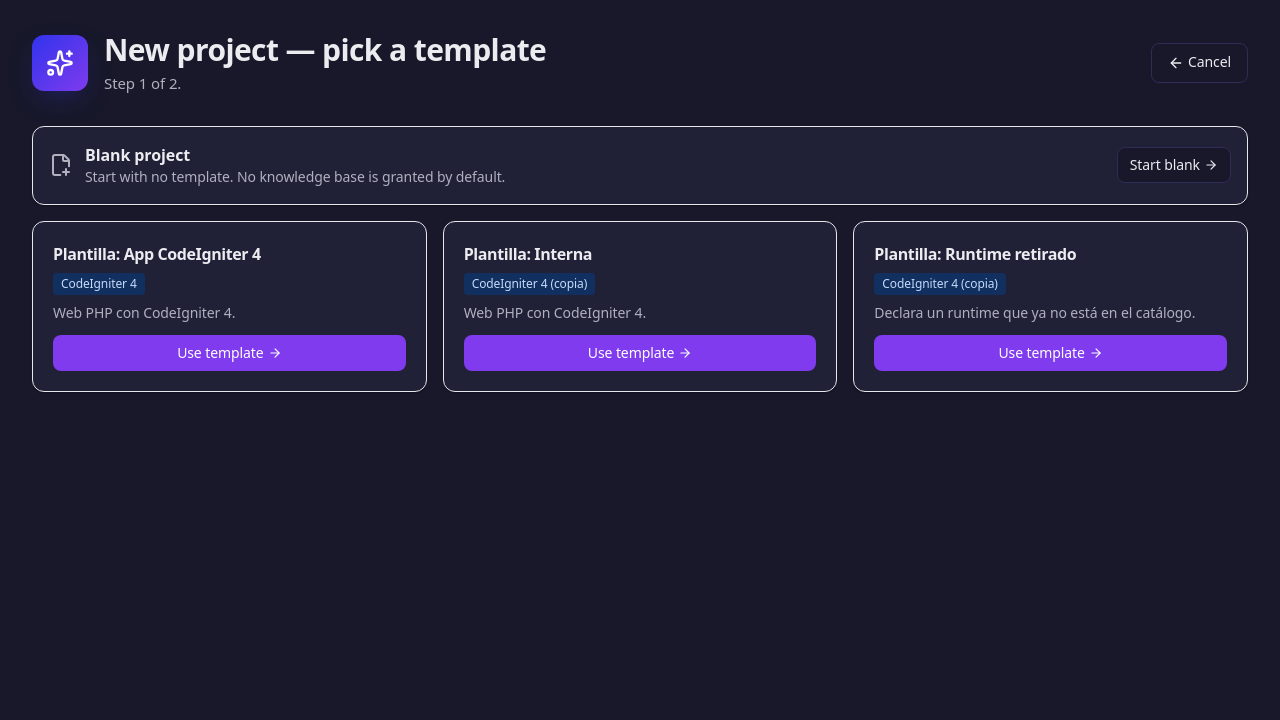
H6 — un equipo built-in no puede quedarse referenciado › el aviso de equipo de plataforma se traduce y no deja castellano debajo
Click the button "Use template" below "Plantilla: App CodeIgniter 4".
click(229, 353)  # box [53,335,406,371]
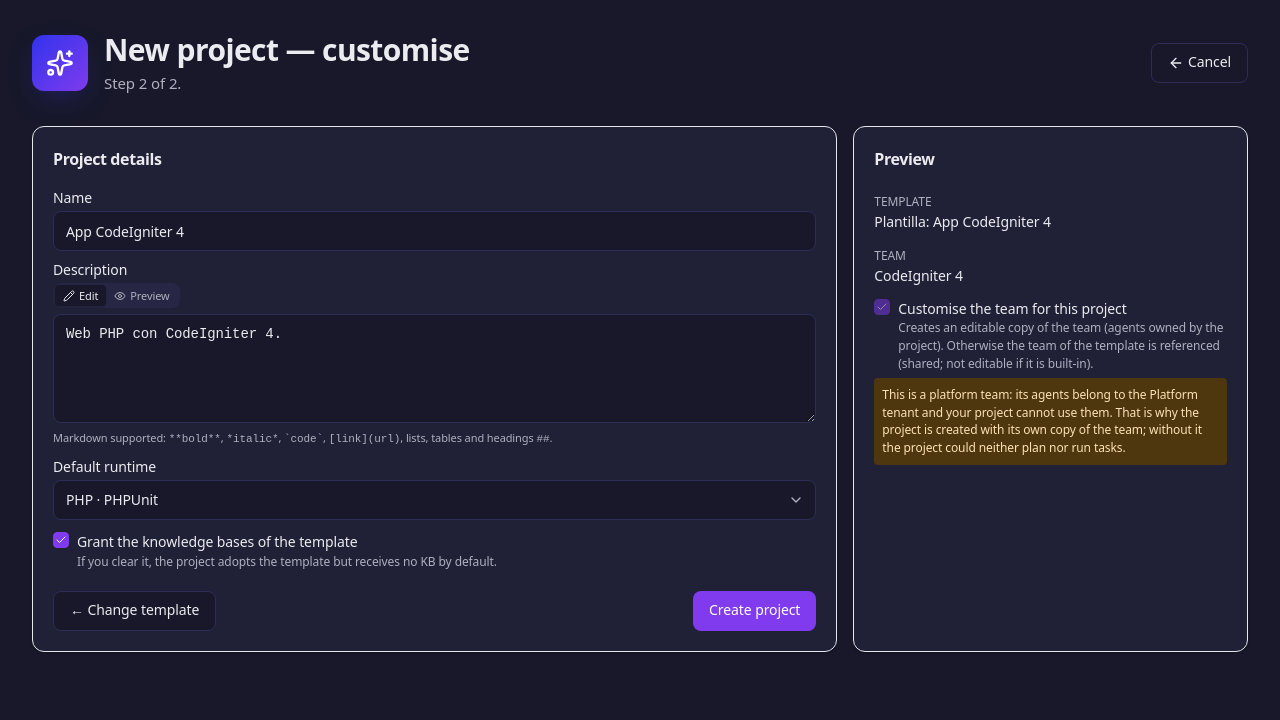
Expected: the text "CodeIgniter 4" is shown, [874,266,963,285]
Now the element with test id "wizard-step-2" is shown
Now the text with test id "wizard-fork-team-required" shows "platform", box [882,386,1202,456]
